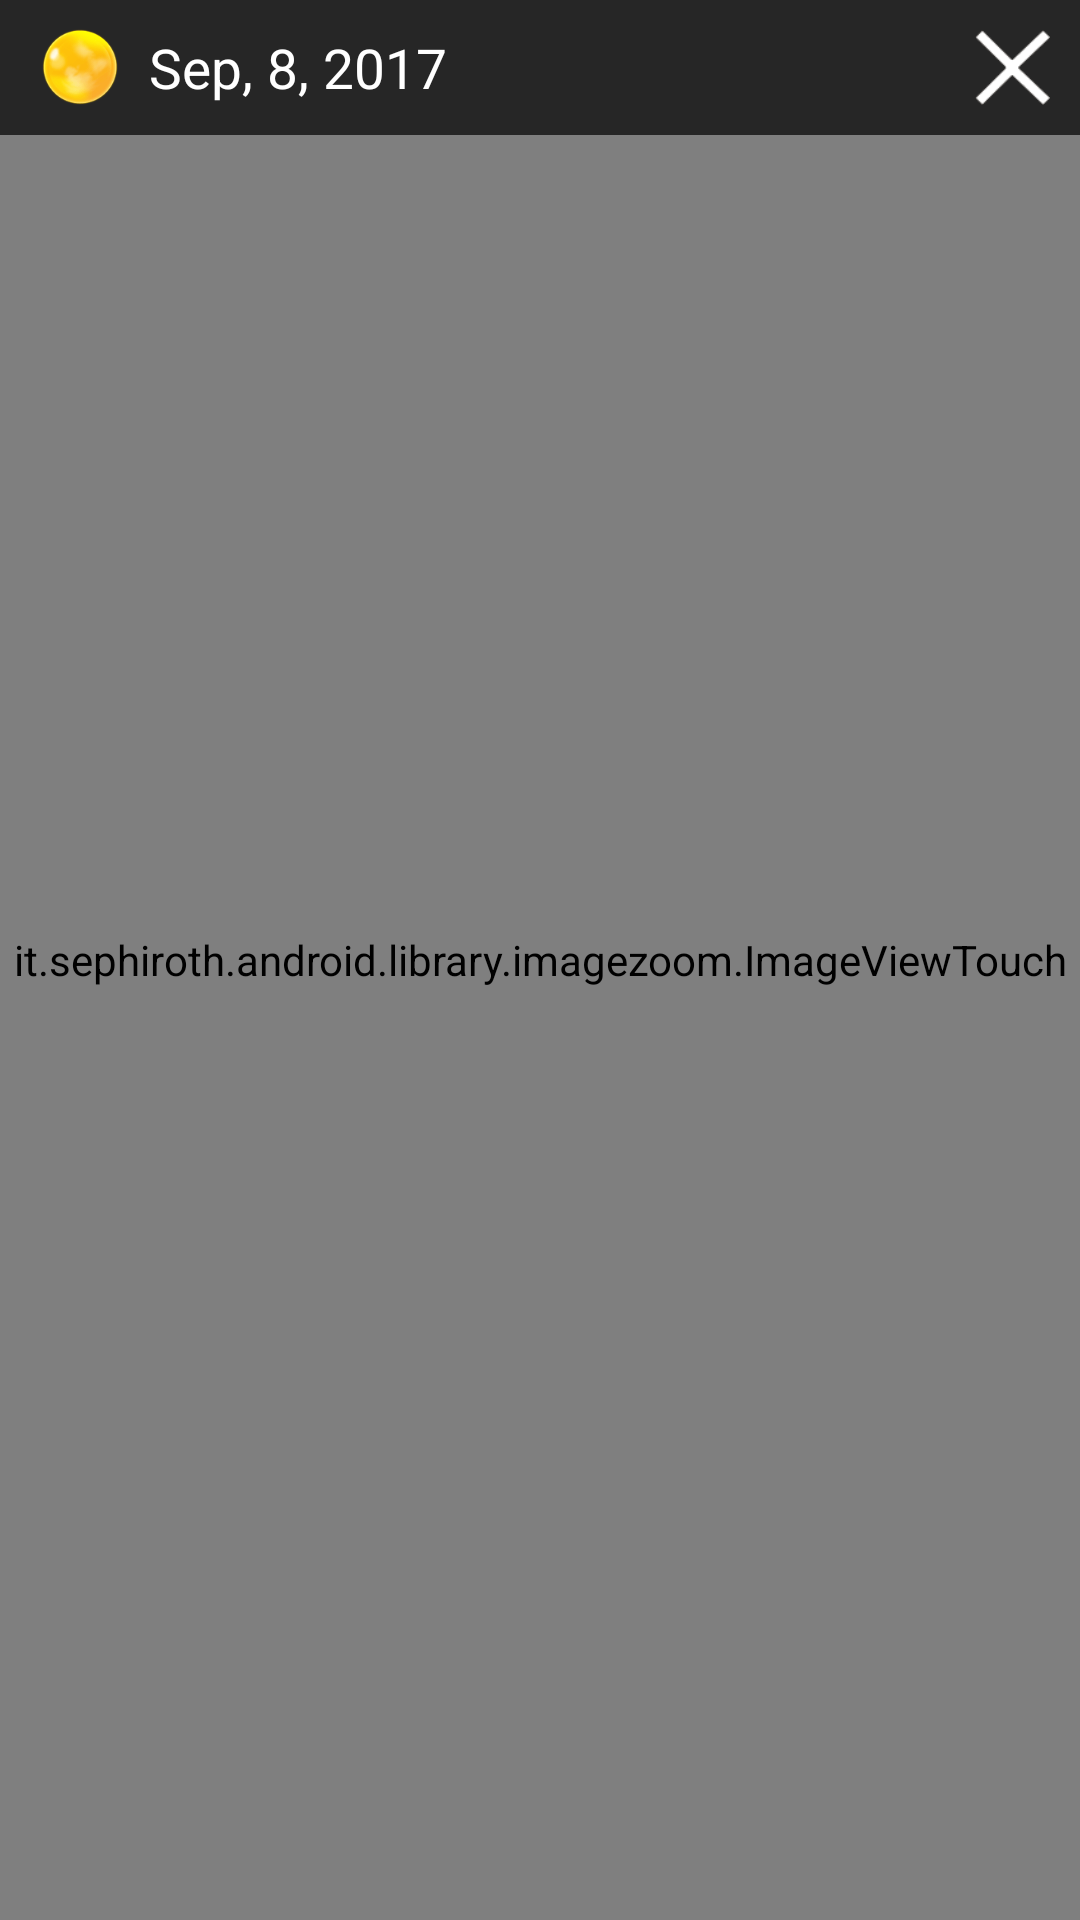

Named icons in this screenshot (1080 x 1920) and their bounding boxes, (x1, y1, x2, y2):
ball: (43, 30, 117, 104)
